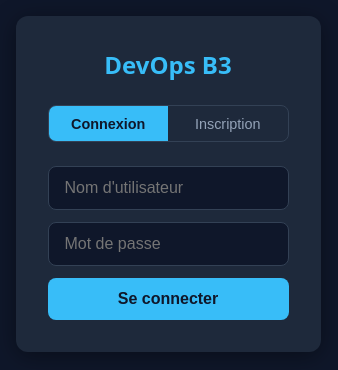
Scenario: AuthForm – connexion › désactive le bouton pendant le chargement
This screenshot has width=338, height=370.
Type "alice" into the field with placeholder "Nom d'utilisateur" at (168,188), box [48,166,288,210]
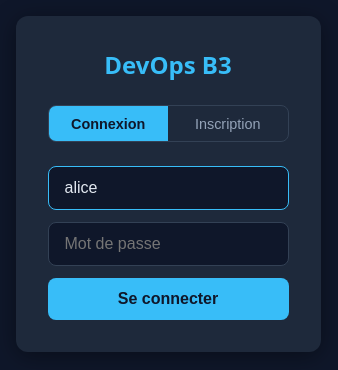
Type "secret" into the password field with placeholder "Mot de passe" at (168,244), box [48,222,288,266]
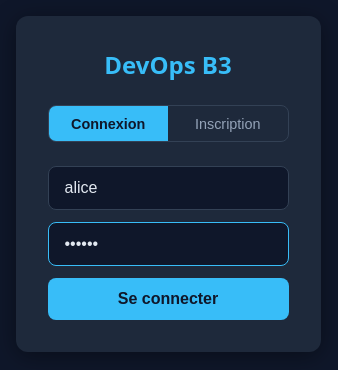
Click the button "Se connecter" at (168,299), box [48,278,288,320]
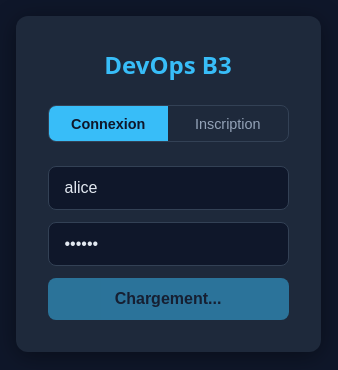
Expected: the button "Chargement..." is disabled, [48,278,288,320]
